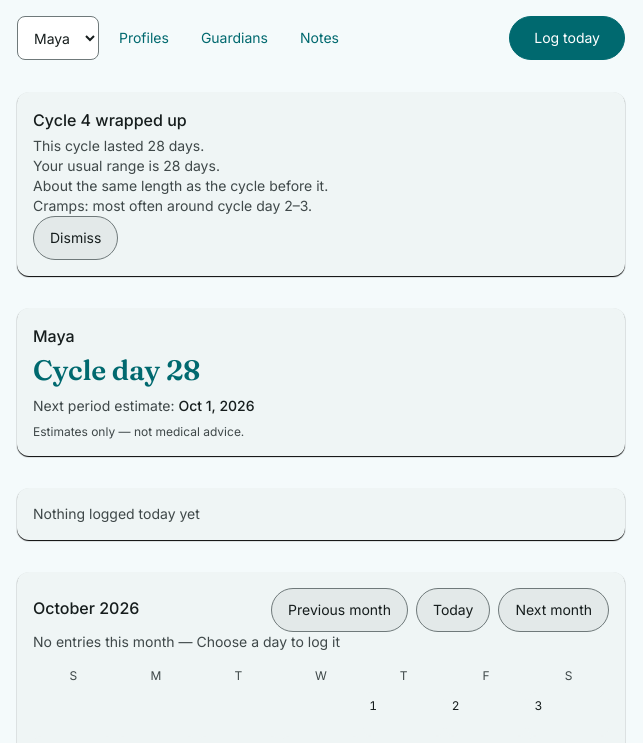
TodayPage — the profile home (issue #1253) › scopes a recap dismissal to its profile
Check: the heading "Maya" is shown, box x1=33 y1=326 x2=75 y2=346
Click the button "Dismiss".
click(76, 238)  # box x1=33 y1=216 x2=118 y2=260
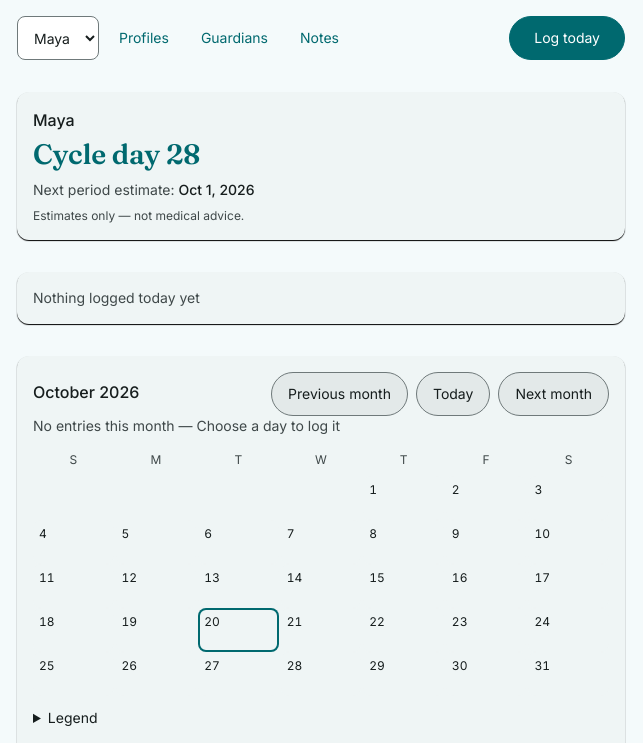
Check: the element with test id "cycle-recap-card" is gone
Select "Priya" in the dropdown named "Profile" at [58, 38], box x1=17 y1=16 x2=99 y2=60
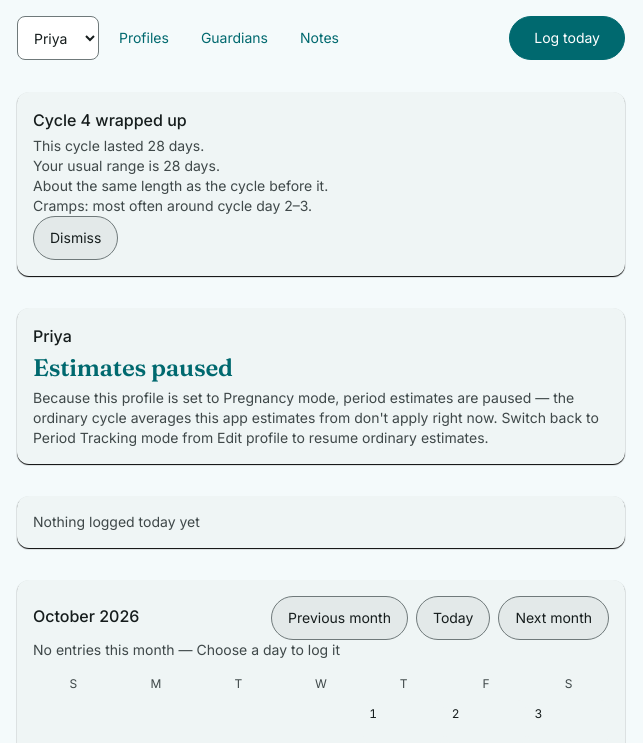
Check: the heading "Priya" is shown, box x1=33 y1=326 x2=72 y2=346
Check: the element with test id "cycle-recap-card" is shown, box x1=17 y1=92 x2=625 y2=276
Select "Maya" in the dropdown named "Profile" at [58, 38], box x1=17 y1=16 x2=99 y2=60
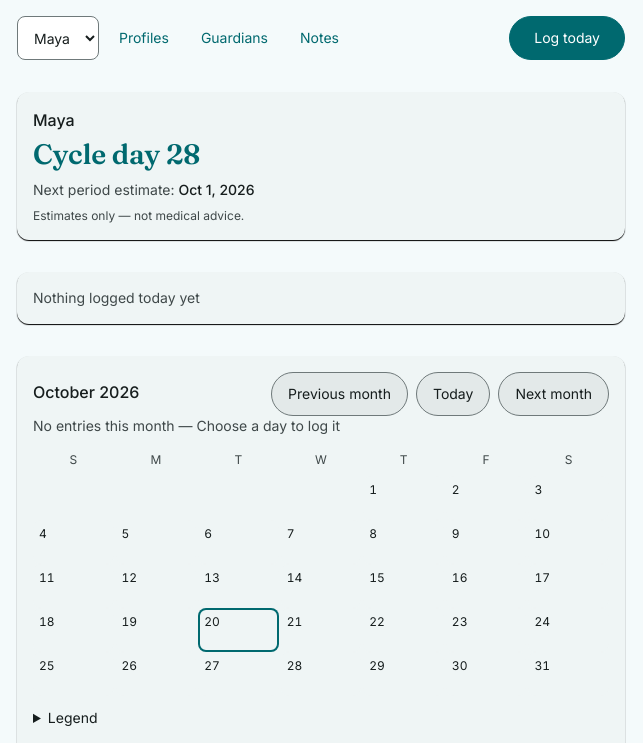
Check: the heading "Maya" is shown, box x1=33 y1=110 x2=75 y2=130
Check: the element with test id "cycle-recap-card" is gone
